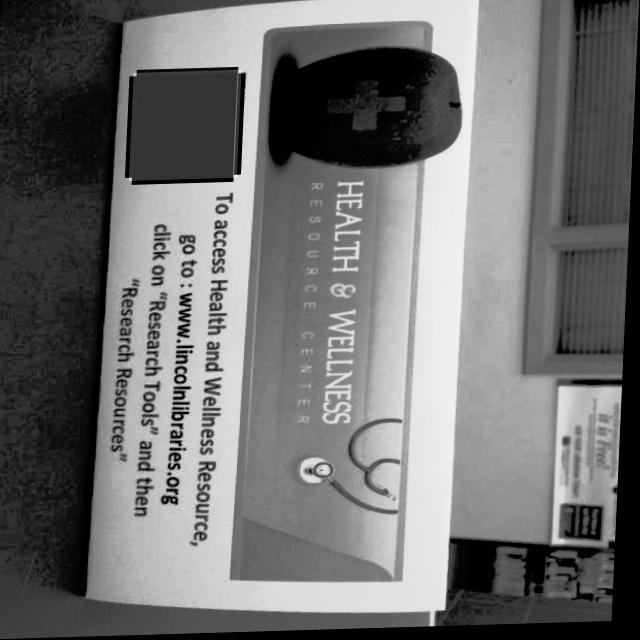qr_code: (130, 71, 241, 182)
